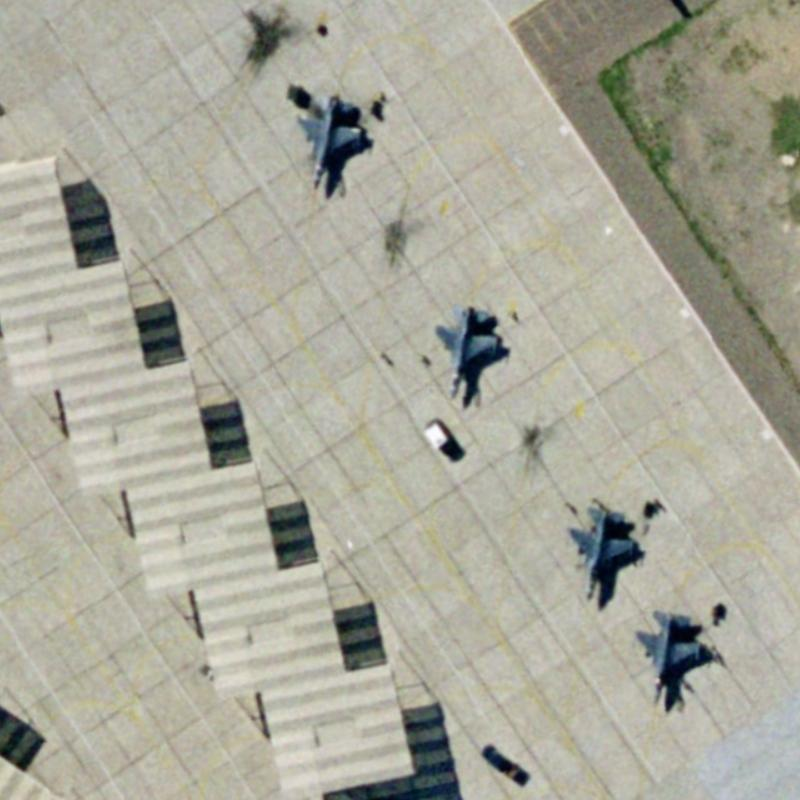A5: (424, 297, 507, 407), (624, 606, 710, 710), (291, 87, 371, 197), (564, 499, 642, 607)
